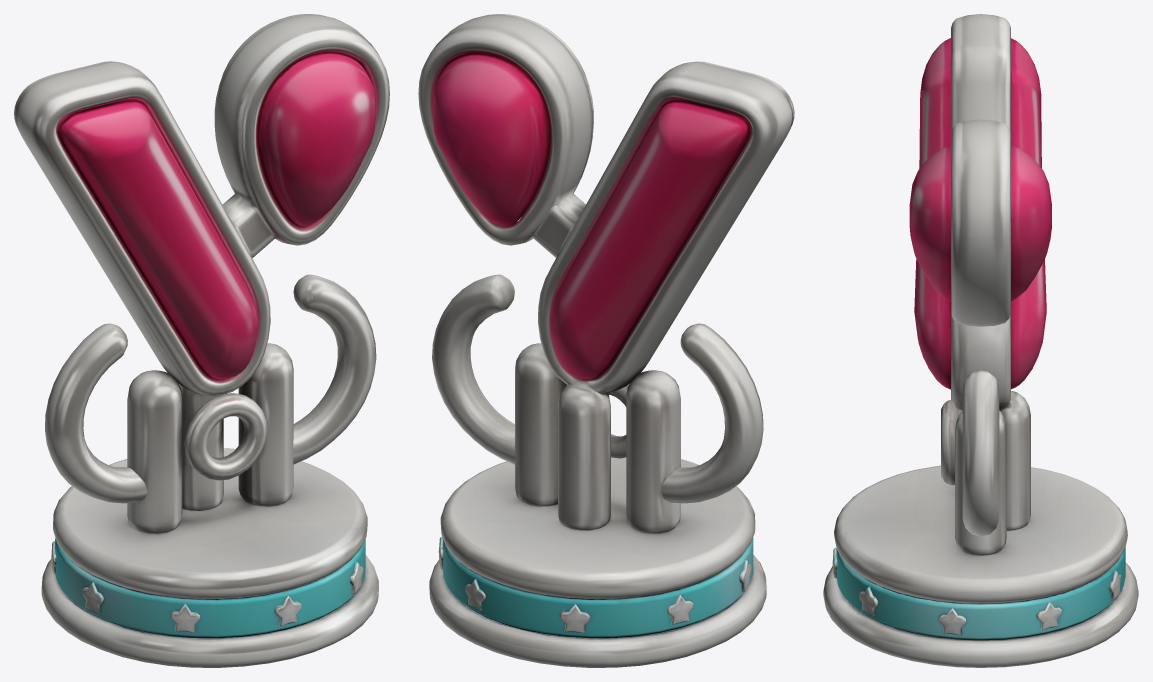
The model's file is Trophé2eme.glb.
The picture shows the model from 3 angles, left to right: view 1: azimuth 30°, elevation 25°; view 2: azimuth 150°, elevation 25°; view 3: azimuth 270°, elevation 25°; orthographic projection. The views are drawn at different scales.
Parts seen in each view (by area): view 1: tripo_4e7a6291_e2d6_4420_845a_d0fe3a0e0f0f; view 2: tripo_4e7a6291_e2d6_4420_845a_d0fe3a0e0f0f; view 3: tripo_4e7a6291_e2d6_4420_845a_d0fe3a0e0f0f.
Part boxes in pixels (box(x1,y1,x2,y2)): tripo_4e7a6291_e2d6_4420_845a_d0fe3a0e0f0f: box(14, 14, 389, 667); tripo_4e7a6291_e2d6_4420_845a_d0fe3a0e0f0f: box(418, 14, 794, 667); tripo_4e7a6291_e2d6_4420_845a_d0fe3a0e0f0f: box(823, 14, 1138, 667).
Bounding box in the file's own units: 0.6733 × 0.9995 × 0.5503.
1 material, 1 textured.
